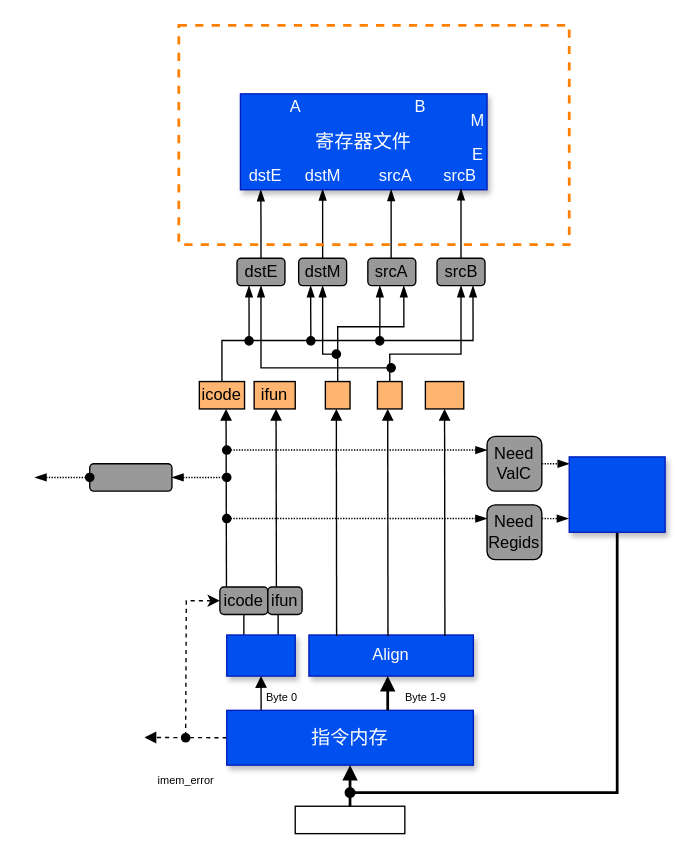
Some shapes in this 697 by 858 pixel diagram are drawn without their labels. Each missing label, with the centre of its shape:
"Instr Valid" belongs at point 130,476.
"PC" belongs at point 349,819.
"PC增加" belongs at point 617,496.
"rA" belongs at point 337,394.
"rB" belongs at point 389,394.
"Split" belongs at point 261,657.
"ValC" belongs at point 444,394.
